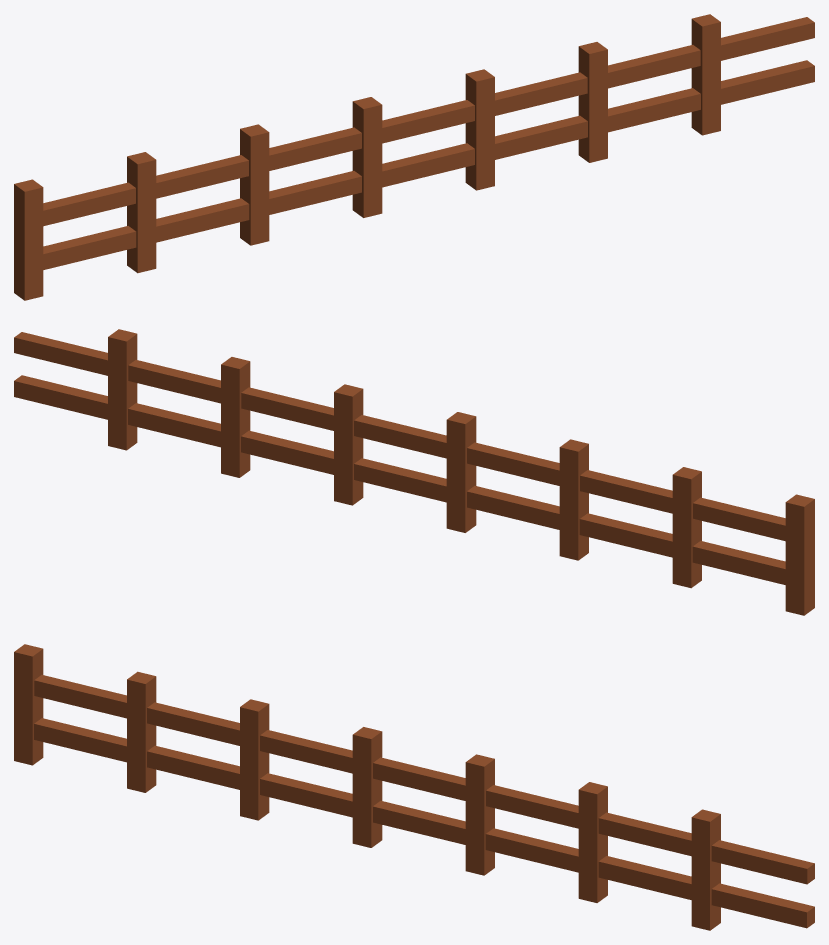
The model's file is Fence.fbx.
3 renders of one model, top to bottom at view 1: azimuth 30°, elevation 25°; view 2: azimuth 150°, elevation 25°; view 3: azimuth 330°, elevation 25°, orthographic.
Visible parts, largest first — view 1: Fence; view 2: Fence; view 3: Fence.
Boxes of the visible parts, bbox=[...] form: Fence: bbox=[14, 14, 814, 300]; Fence: bbox=[14, 329, 814, 615]; Fence: bbox=[14, 644, 814, 930].
Size of the model in its own units: 16.14 by 2.12 by 0.3803.
